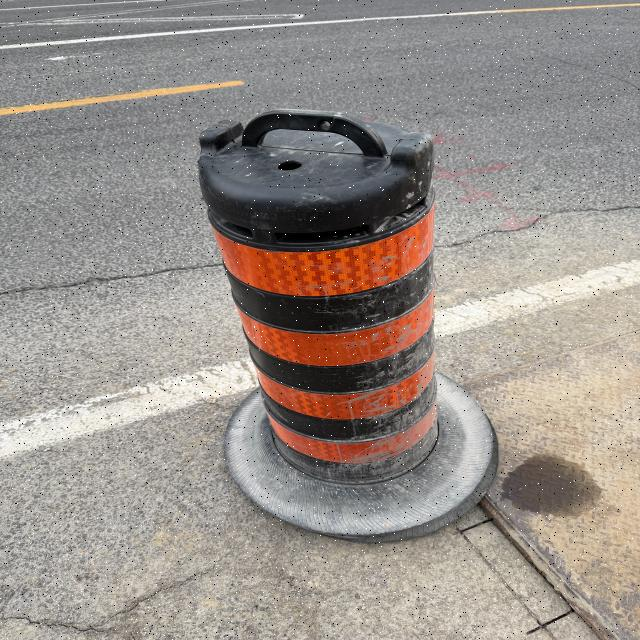Teraffic Barrel: (199, 110, 497, 540)
